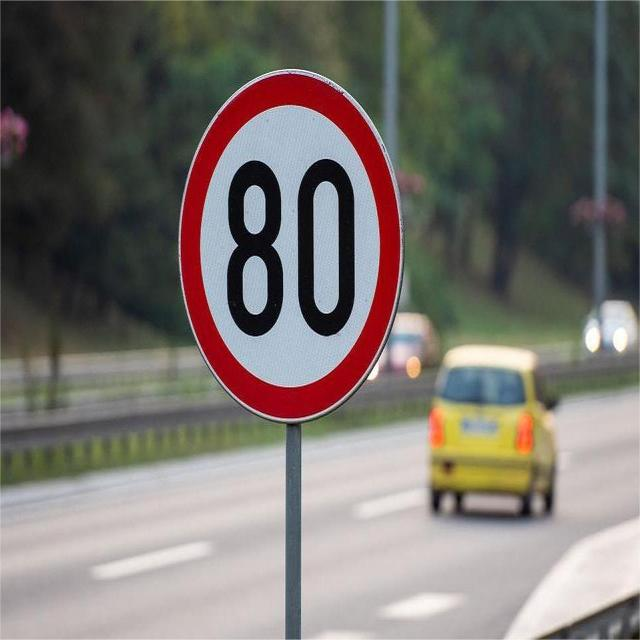speed limit 80: (176, 70, 405, 421)
